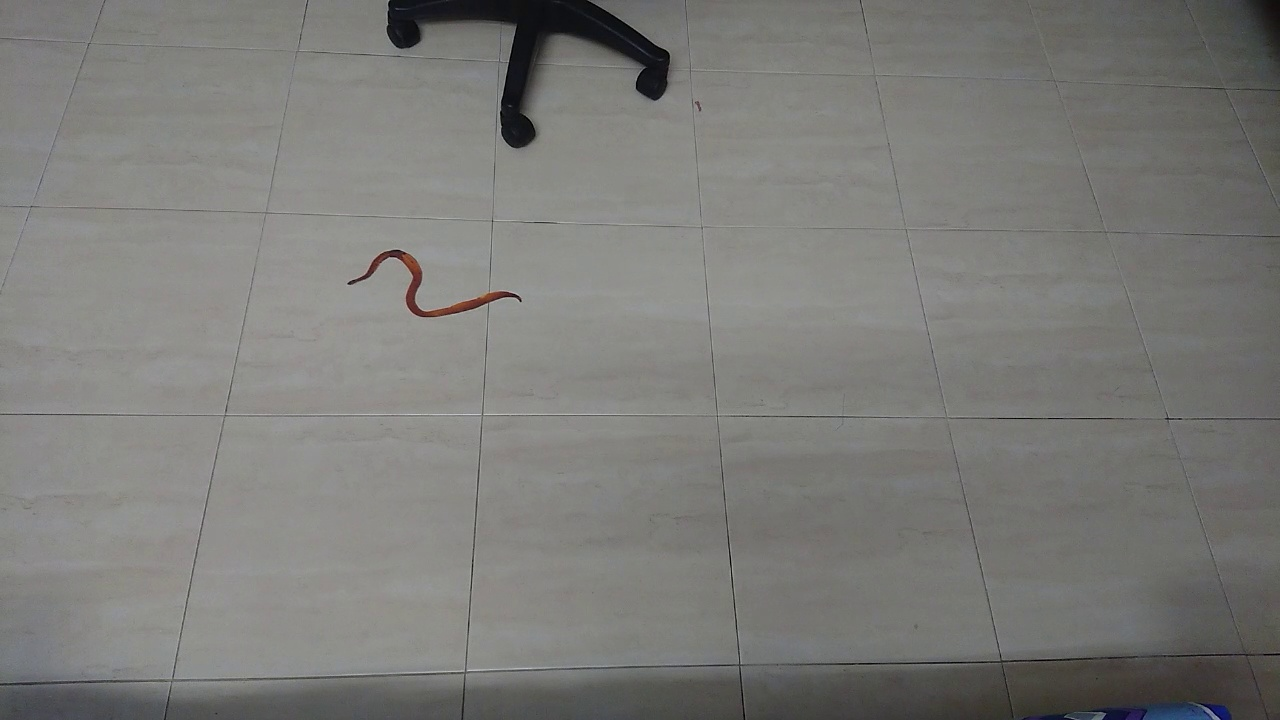snake: (329, 237, 547, 332)
